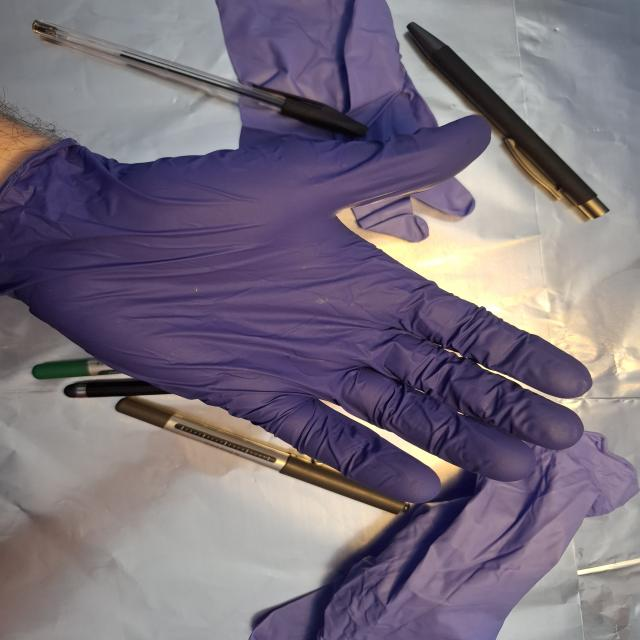glove_on: (2, 108, 600, 509)
